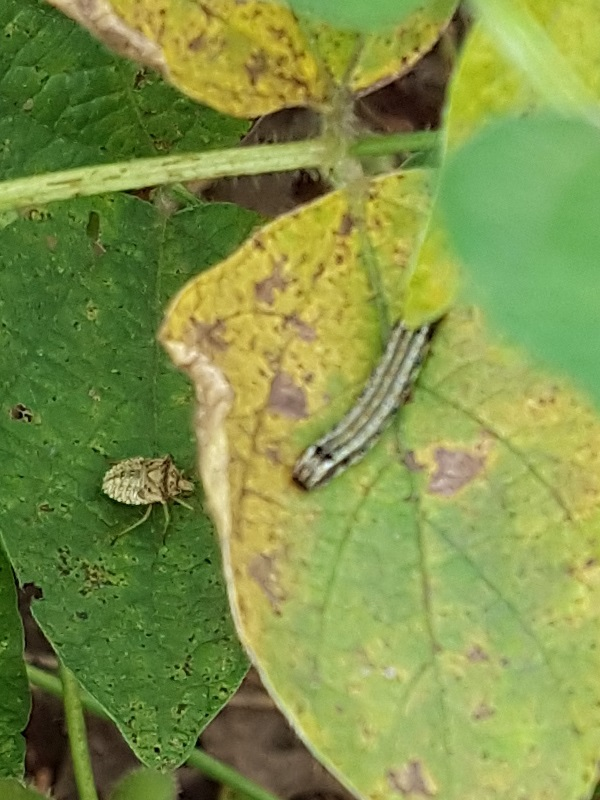Euschistus_heros_ninfa: (74, 433, 213, 562)
Spodoptera_albula: (267, 290, 472, 511)
